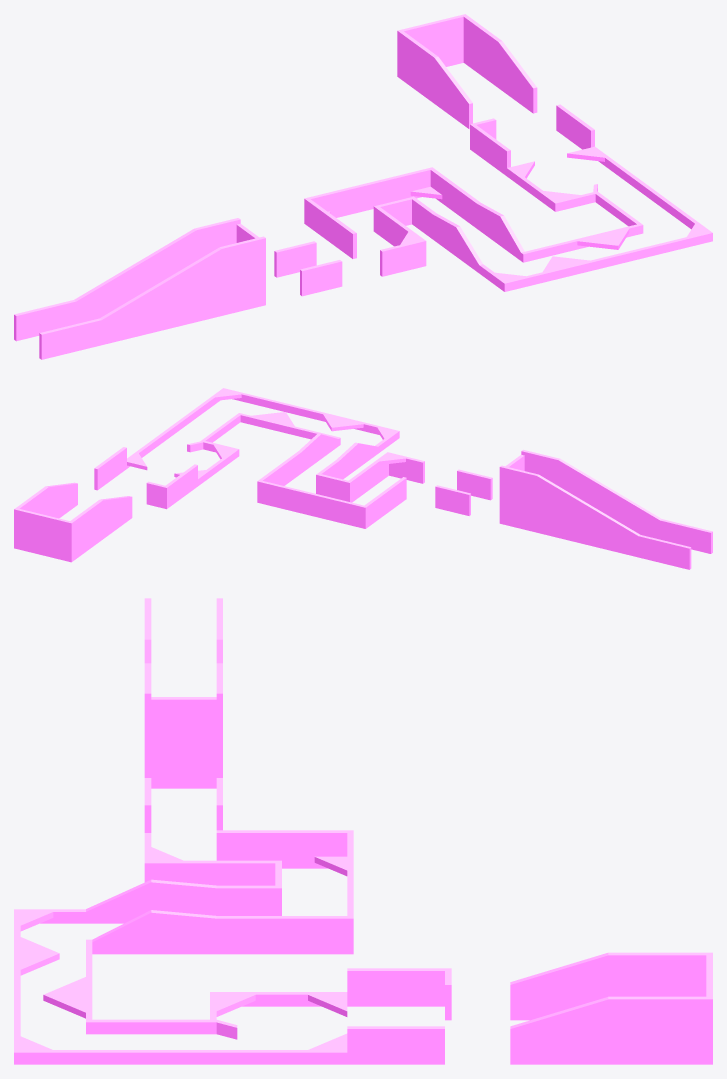
The model's file is Hole 9 Trim.glb.
The picture shows the model from 3 angles, top to bottom: view 1: azimuth 30°, elevation 25°; view 2: azimuth 150°, elevation 25°; view 3: azimuth 270°, elevation 25°; orthographic projection. The views are drawn at different scales.
Parts seen in each view (by area): view 1: Hole 9 Trim; view 2: Hole 9 Trim; view 3: Hole 9 Trim.
Part boxes in pixels (<box>): Hole 9 Trim: <box>14,14,712,359</box>; Hole 9 Trim: <box>14,388,712,569</box>; Hole 9 Trim: <box>14,598,712,1064</box>.
Size of what is drawn, in the model's own units: 31.2 by 3.2 by 21.4.
